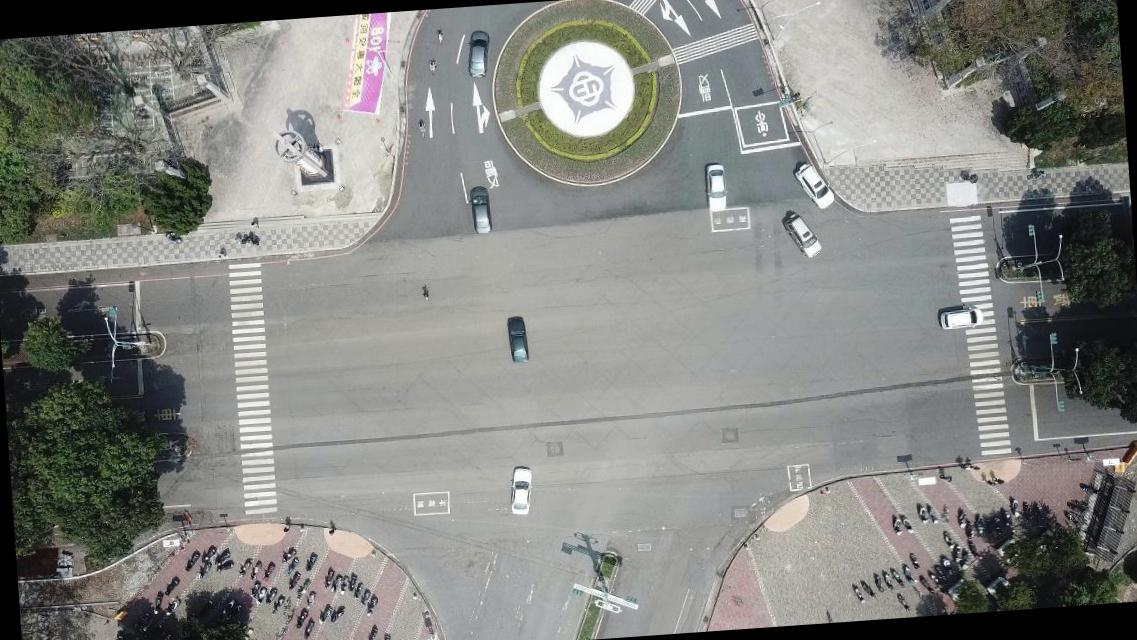vehicle: (792, 160, 836, 211), (781, 209, 823, 260), (506, 464, 534, 516), (463, 28, 492, 78), (468, 183, 494, 236), (506, 314, 530, 364), (938, 306, 984, 331), (706, 161, 728, 212)
